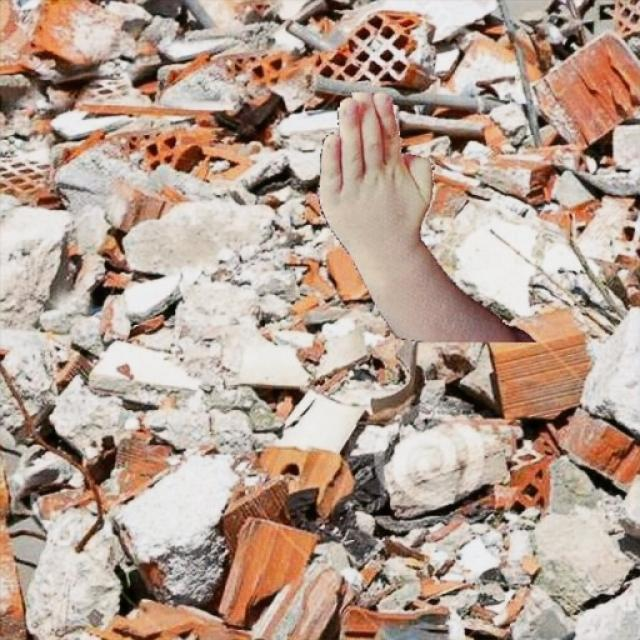Person in Rubble: (317, 92, 535, 342)
